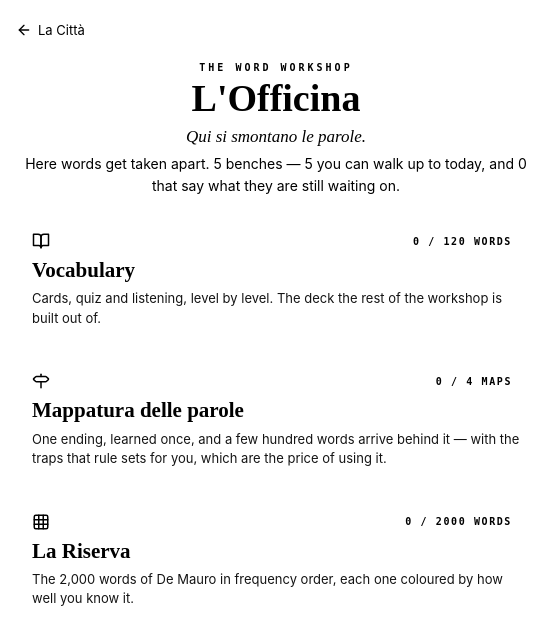
it: opening a bench › opens Mappatura delle parole and comes back to the workshop
Step 1. Click the button "Mappatura delle parole" → (497, 381), box x1=16 y1=358 x2=536 y2=485
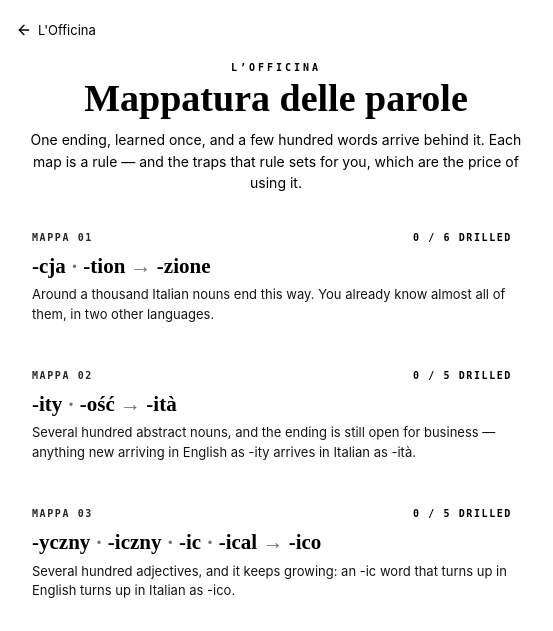
Check: the heading "Mappatura delle parole" is shown, box x1=84 y1=77 x2=468 y2=119
Step 2. Click the button "L'Officina" → (59, 30), box x1=16 y1=16 x2=102 y2=44
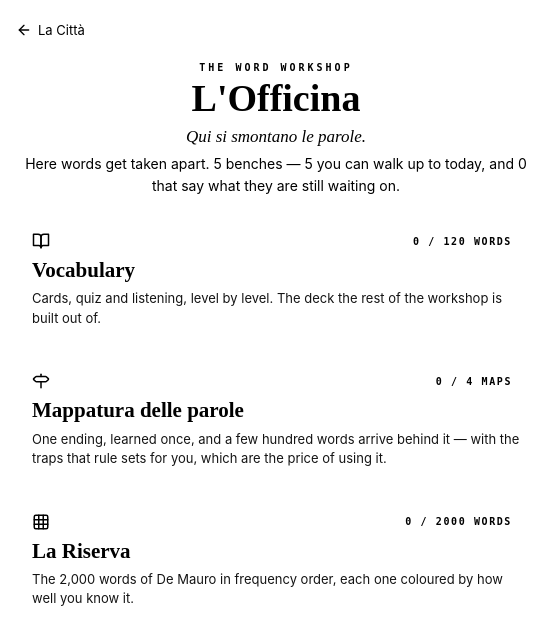
Check: the heading "L'Officina" is shown, box x1=192 y1=77 x2=360 y2=119
